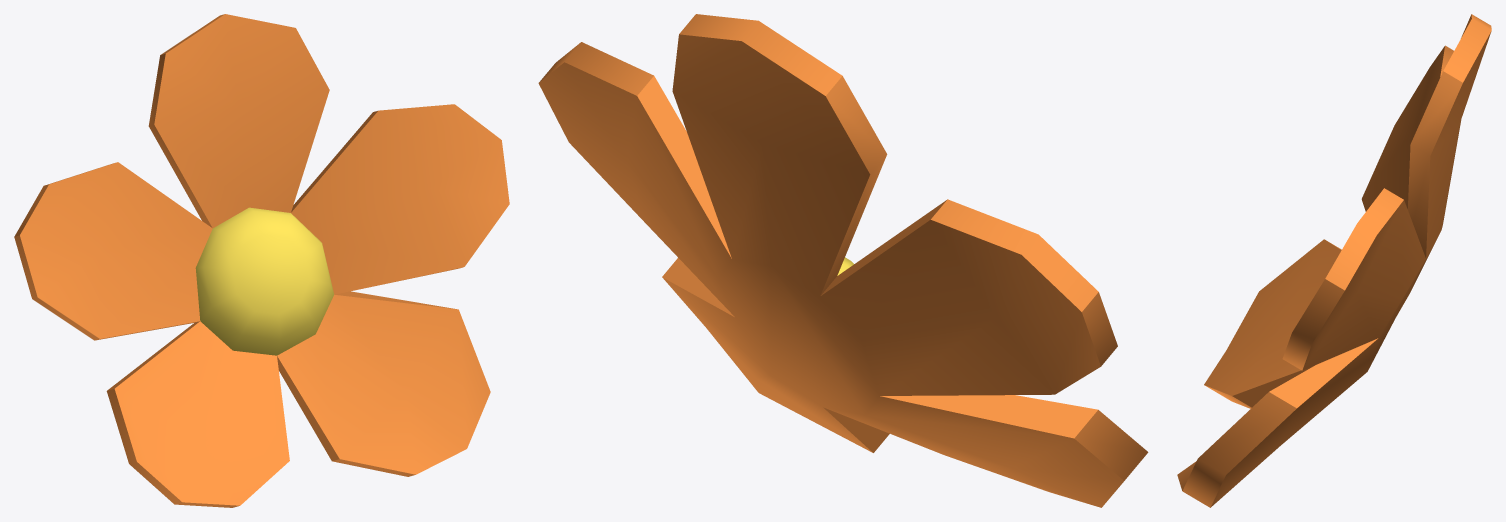
File: Flower1.fbx
3 views of the same model, side by side, from view 1: azimuth 30°, elevation 25°; view 2: azimuth 150°, elevation 25°; view 3: azimuth 270°, elevation 25° (orthographic). The views are drawn at different scales.
Parts seen in each view (by area): view 1: Flower1; view 2: Flower1; view 3: Flower1.
Part boxes in pixels (x1=…): Flower1: x1=14, y1=14, x2=509, y2=507; Flower1: x1=538, y1=14, x2=1148, y2=507; Flower1: x1=1177, y1=14, x2=1491, y2=507.
Bounding box in the file's own units: 33.31 × 28.4 × 18.49.
1 material, 1 textured.
